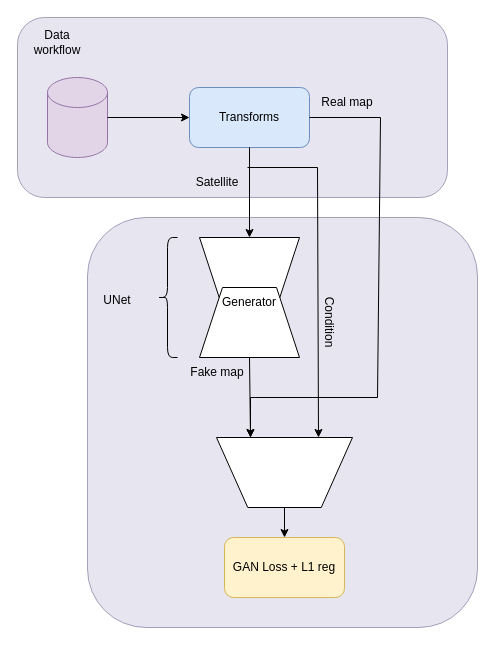
Some shapes in this 495 by 645 pixel diagram are drawn without their labels. The shapes that lost their labels are listed below. From the top down, each one's centre as x and y in pixels, then its label:
At pixel 77 117: "Dataset".
At pixel 284 472: "Conditional Discriminator".
